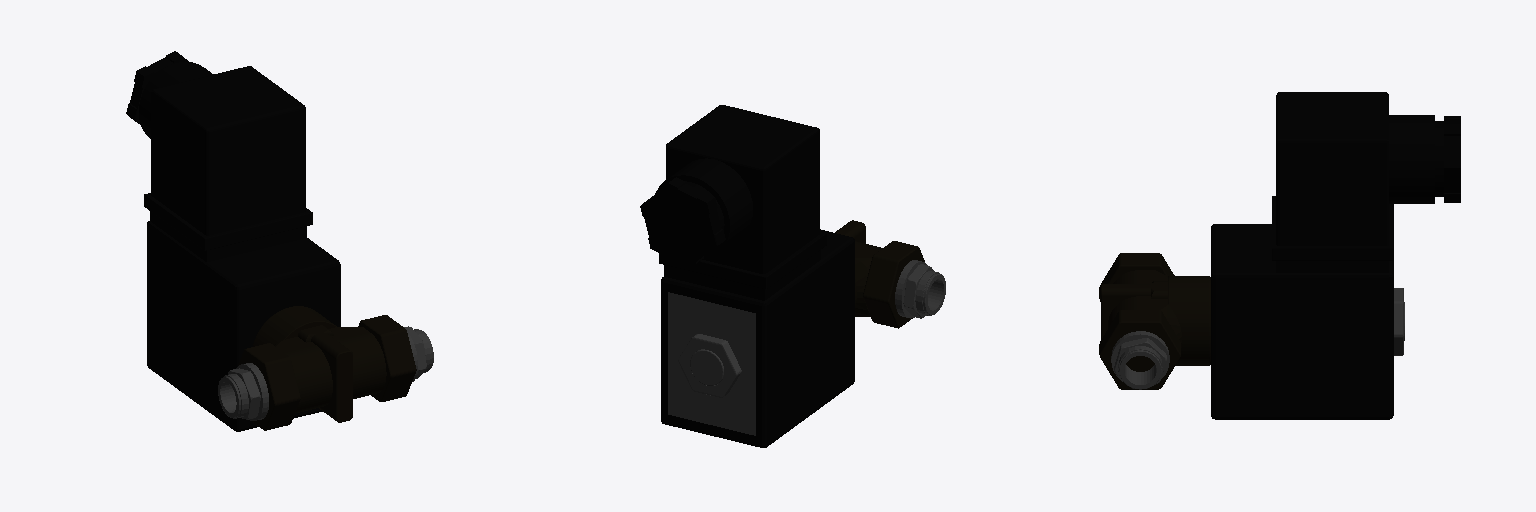
The model's file is plc_inv.obj.
3 renders of one model, left to right at view 1: azimuth 30°, elevation 25°; view 2: azimuth 150°, elevation 25°; view 3: azimuth 270°, elevation 25°, orthographic.
Visible parts, largest first — view 1: PLC1.024_plc1.025, Cube.048_Cube.064, Cylinder.070_Cylinder.094, Cylinder.071_Cylinder.095; view 2: PLC1.024_plc1.025, Cube.048_Cube.064, Cylinder.070_Cylinder.094; view 3: PLC1.024_plc1.025, Cube.048_Cube.064, Cylinder.071_Cylinder.095.
Part boxes in pixels (left/top/right/bottom): PLC1.024_plc1.025: left=126, top=51, right=340, bottom=431; Cube.048_Cube.064: left=238, top=306, right=416, bottom=430; Cylinder.070_Cylinder.094: left=218, top=363, right=268, bottom=420; Cylinder.071_Cylinder.095: left=404, top=326, right=433, bottom=381; PLC1.024_plc1.025: left=640, top=105, right=854, bottom=447; Cube.048_Cube.064: left=835, top=220, right=924, bottom=328; Cylinder.070_Cylinder.094: left=895, top=260, right=945, bottom=318; PLC1.024_plc1.025: left=1211, top=92, right=1460, bottom=419; Cube.048_Cube.064: left=1099, top=253, right=1210, bottom=389; Cylinder.071_Cylinder.095: left=1111, top=331, right=1169, bottom=389.
Size of the model in its own units: 0.5559 by 0.76 by 0.8892.